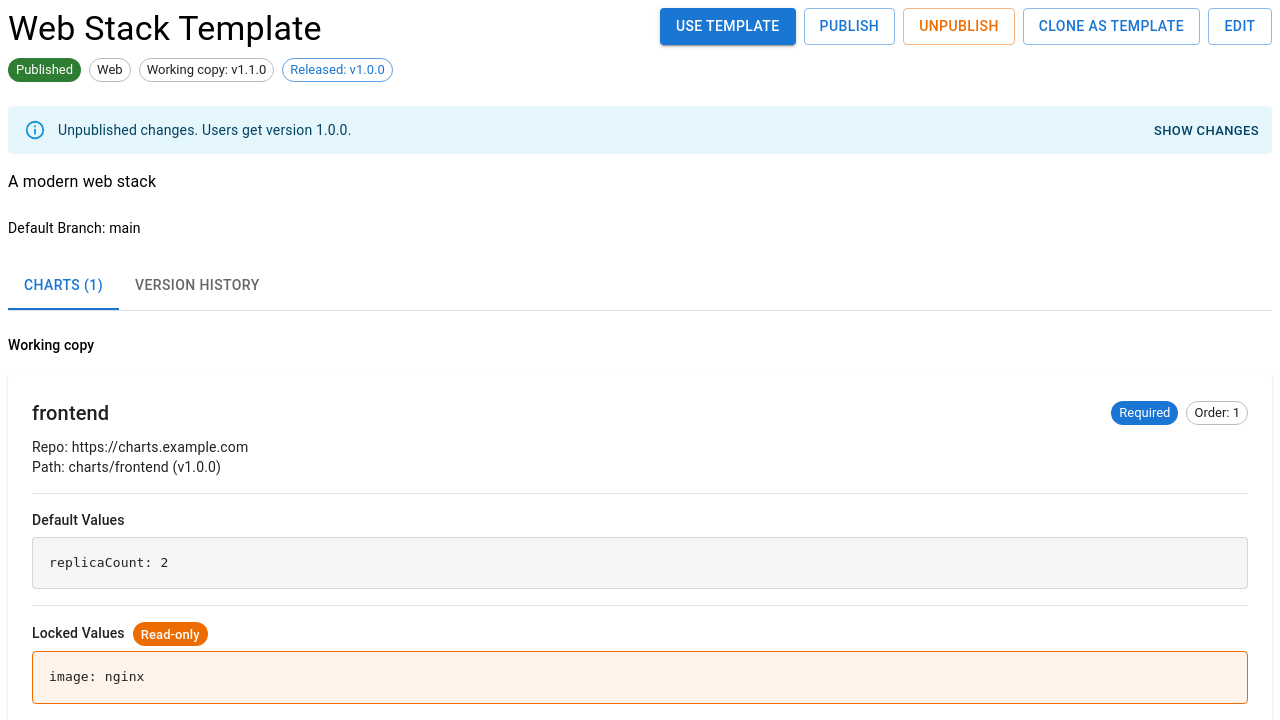
Test: Templates Preview › uses published_version_id for the diff without listing versions
The image size is (1280, 720).
Click the button "Show changes" at (1206, 131), box [1149,116,1264,147]
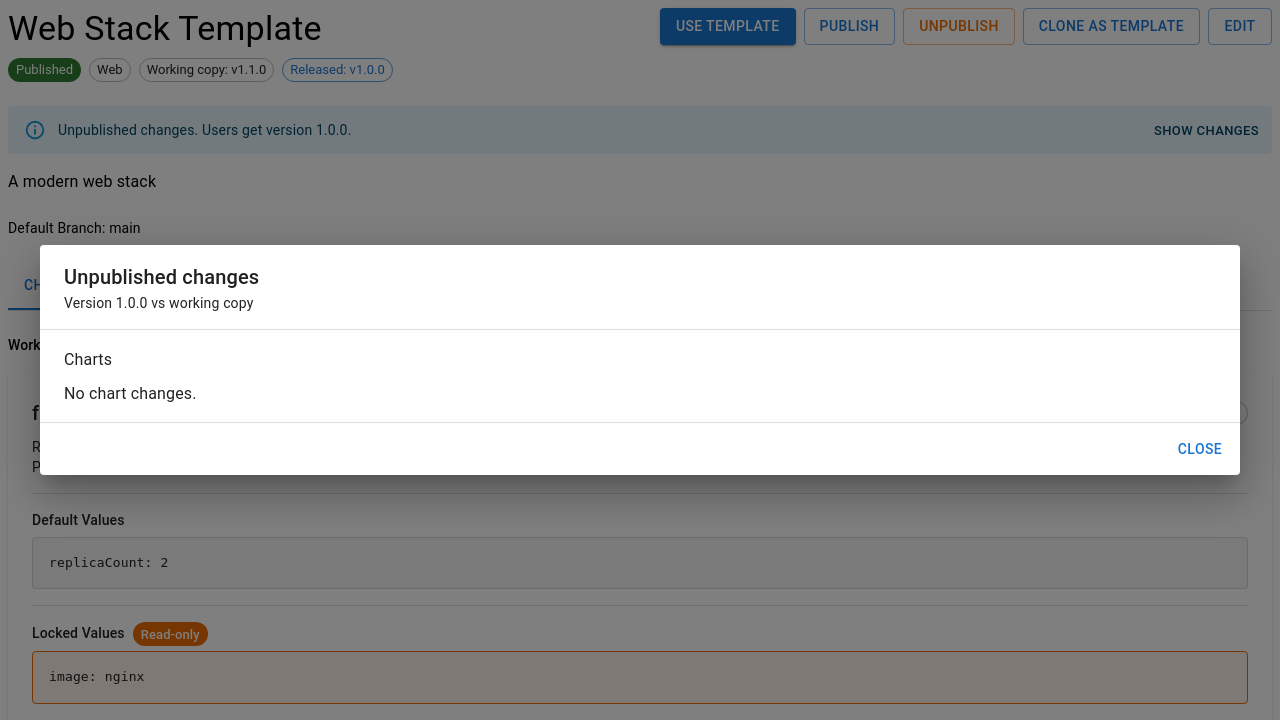
Expected: the text "No chart changes." is shown, [64,384,197,403]
